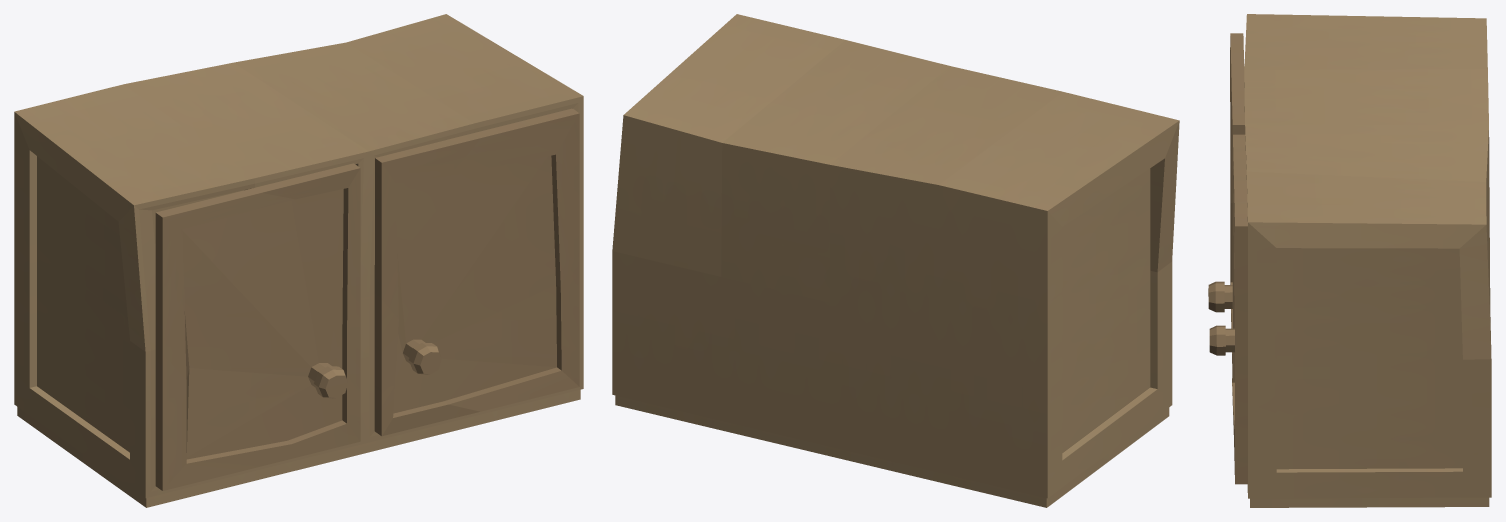
The model's file is shelf_3_B.glb.
3 views of the same model, side by side, from view 1: azimuth 30°, elevation 25°; view 2: azimuth 150°, elevation 25°; view 3: azimuth 270°, elevation 25° (orthographic). The views are drawn at different scales.
Visible parts, largest first — view 1: shelf_3_B; view 2: shelf_3_B; view 3: shelf_3_B.
Part boxes in pixels (x1,y1,x2,y2): shelf_3_B: (14, 14, 583, 507); shelf_3_B: (612, 14, 1179, 507); shelf_3_B: (1208, 14, 1491, 507).
Bounding box in the file's own units: 0.7706 × 0.498 × 0.4443.
Materials: 1 (1 with a texture image).
